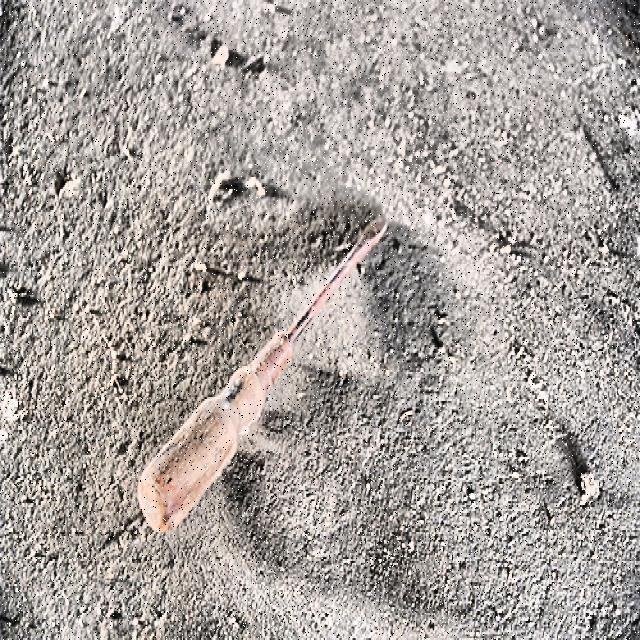screwdriver: (138, 217, 388, 532)
